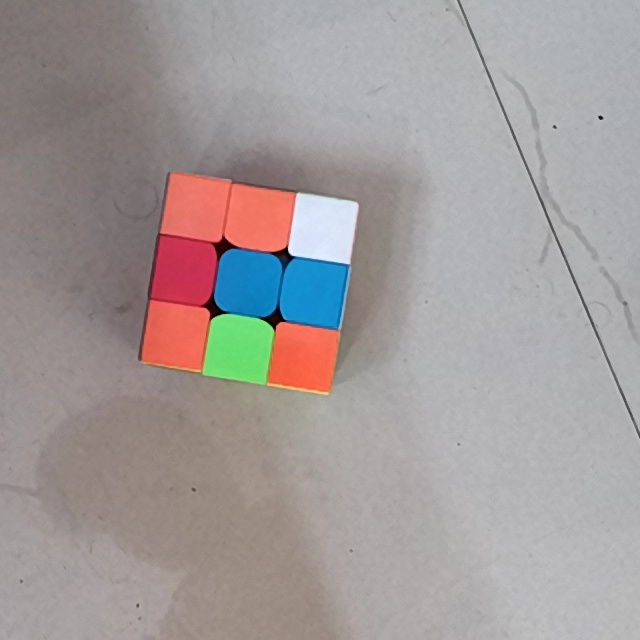tile: (150, 308, 201, 360), (298, 202, 348, 252), (234, 192, 283, 242), (170, 183, 221, 231), (160, 245, 208, 296), (213, 325, 263, 372), (281, 333, 330, 380), (291, 269, 339, 316), (222, 262, 272, 306)
